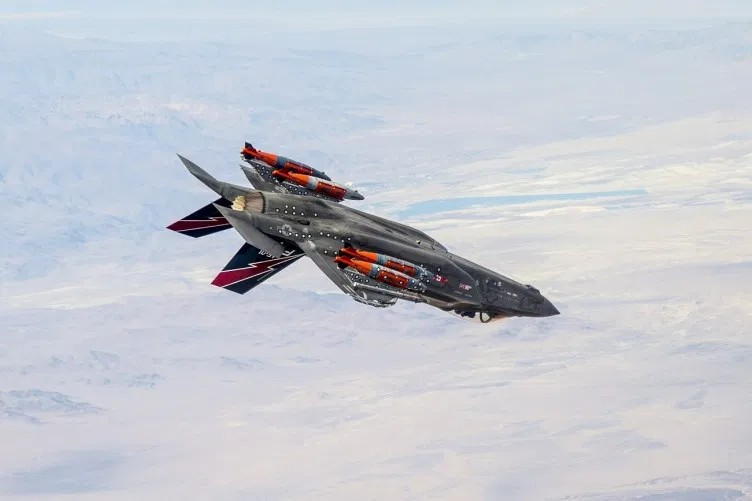F-35 Lightning: (144, 122, 592, 377)
